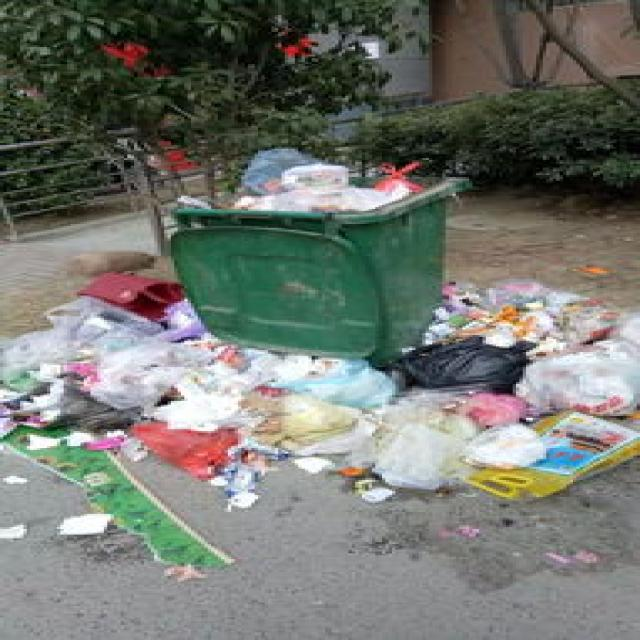garbage: (0, 267, 637, 582)
overflow: (161, 145, 469, 367)
